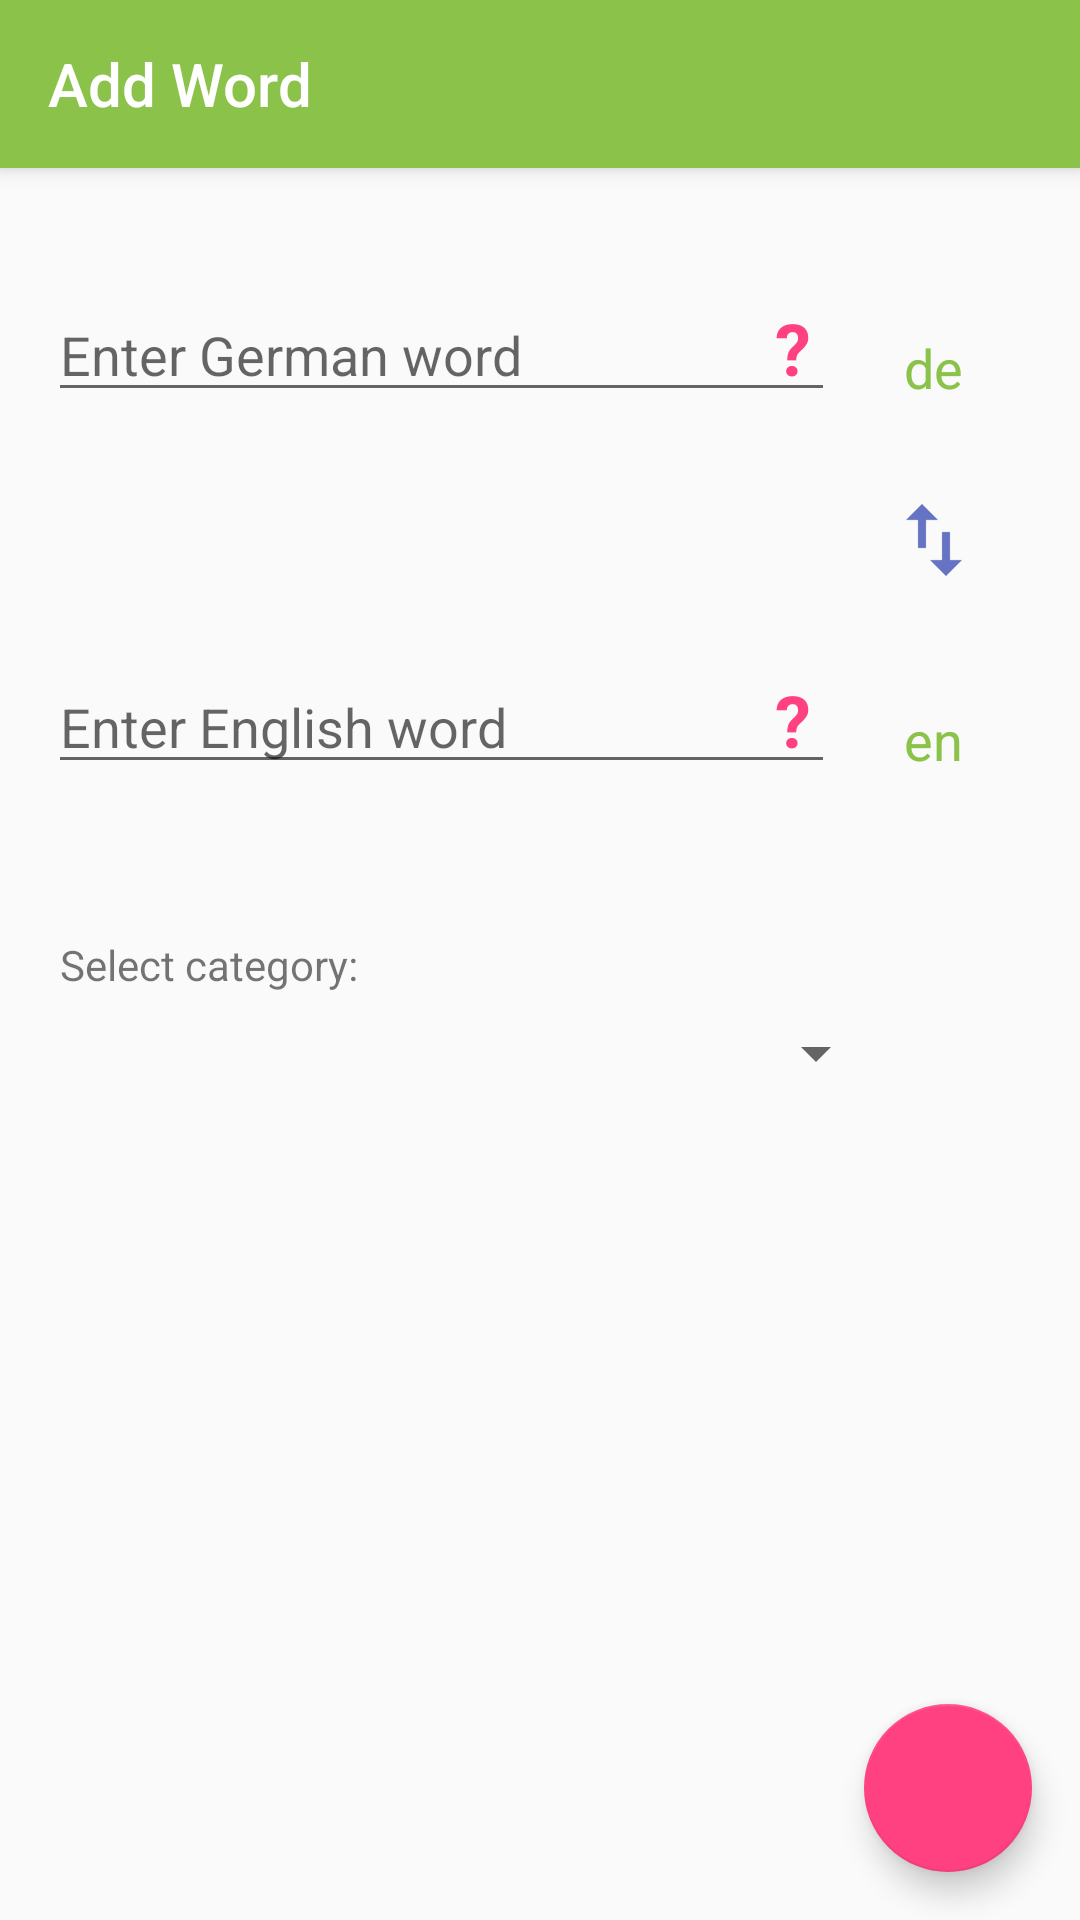

Screen size 1080 × 1920. Icon name, then its center in pixels as (x,y):
swap: (934,540)
